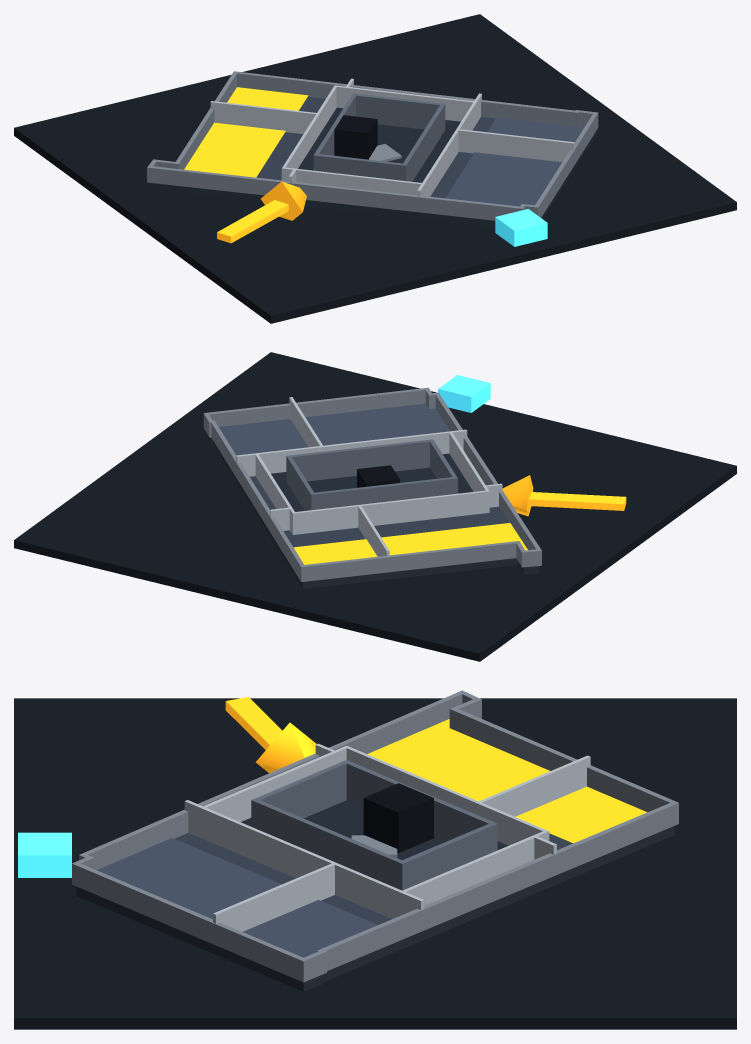
3 renders of one model, top to bottom at view 1: azimuth 30°, elevation 25°; view 2: azimuth 150°, elevation 25°; view 3: azimuth 270°, elevation 25°, orthographic. The views are drawn at different scales.
Visible parts, largest first — view 1: FireSight 1018 Mission St floor 2; view 2: FireSight 1018 Mission St floor 2; view 3: FireSight 1018 Mission St floor 2.
Boxes of the visible parts, x1,y1,x2,y2 form: FireSight 1018 Mission St floor 2: (14, 14, 736, 323); FireSight 1018 Mission St floor 2: (14, 352, 736, 661); FireSight 1018 Mission St floor 2: (14, 690, 736, 1029).
Bounding box in the file's own units: 0.3649 × 0.037 × 0.3485.
